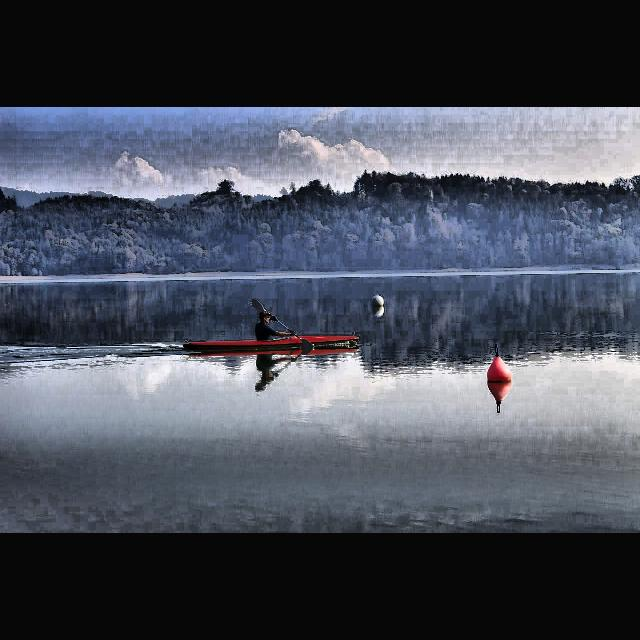buoy: (486, 344, 512, 384), (372, 294, 384, 308)
kayak: (182, 332, 360, 352)
